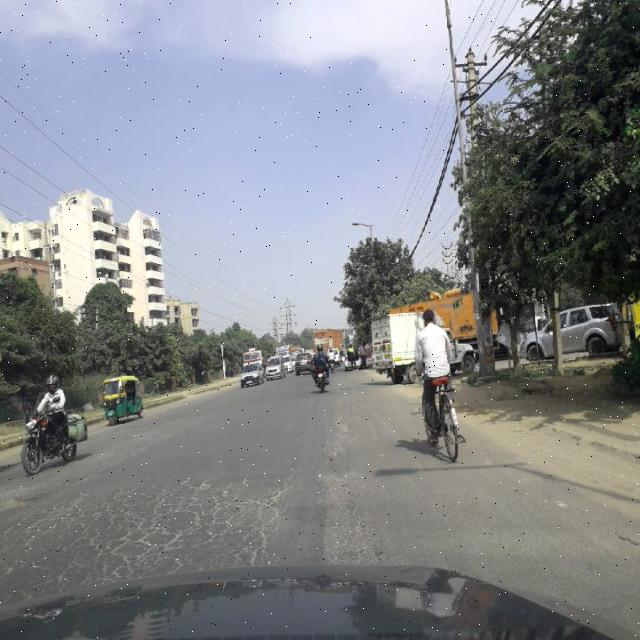D20: (146, 458, 292, 566), (1, 488, 144, 585)
D40: (311, 465, 379, 563)
